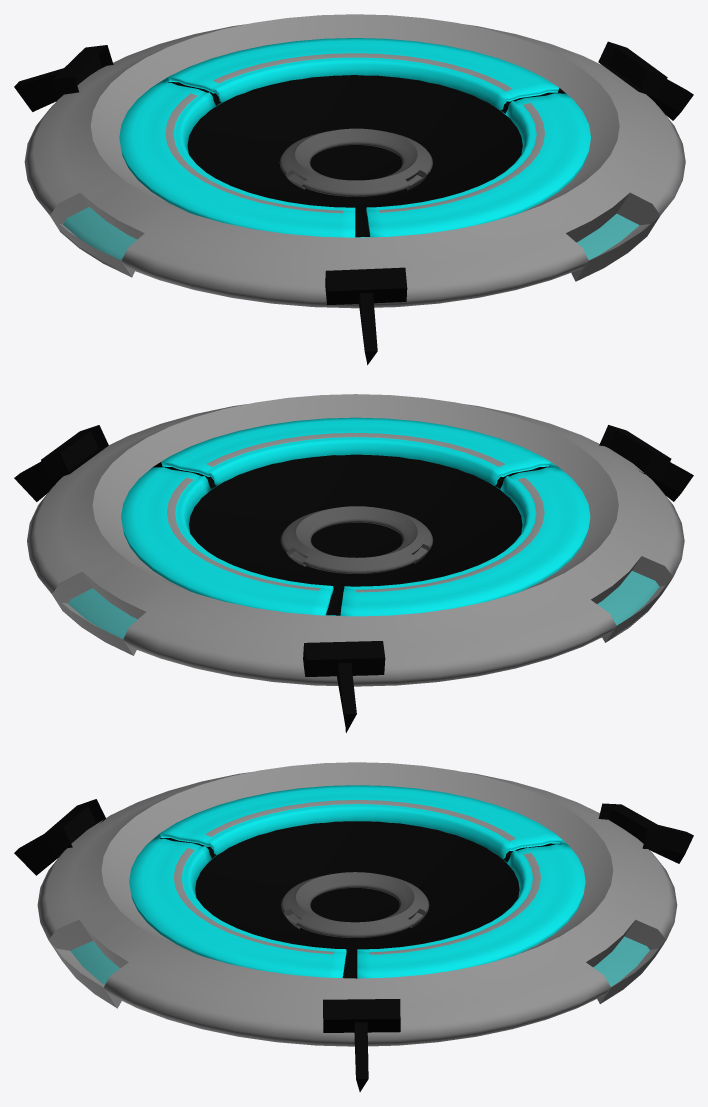
File: recibidordbolasdenergia (2).fbx
3 views of the same model, one above another, from view 1: azimuth 30°, elevation 25°; view 2: azimuth 150°, elevation 25°; view 3: azimuth 270°, elevation 25° (orthographic). The views are drawn at different scales.
Visible parts, largest first — view 1: Torus, Torus.001, Cylinder, Torus.002, Cube.004, Cube.001, Cube.003; view 2: Torus, Torus.001, Cylinder, Torus.002, Cube.003, Cube.001, Cube.004; view 3: Torus, Torus.001, Cylinder, Torus.002, Cube.001, Cube.004, Cube.003.
Boxes of the visible parts, bbox=[...] form: Torus: bbox=[24, 14, 685, 308]; Torus.001: bbox=[119, 38, 590, 237]; Cylinder: bbox=[187, 75, 522, 212]; Torus.002: bbox=[279, 128, 432, 196]; Cube.004: bbox=[325, 267, 407, 365]; Cube.001: bbox=[598, 41, 693, 120]; Cube.003: bbox=[14, 45, 113, 111]; Torus: bbox=[27, 394, 684, 686]; Torus.001: bbox=[121, 417, 590, 616]; Cylinder: bbox=[189, 454, 522, 590]; Torus.002: bbox=[280, 506, 433, 573]; Cube.003: bbox=[303, 641, 385, 732]; Cube.001: bbox=[14, 425, 108, 501]; Cube.004: bbox=[599, 425, 693, 501]; Torus: bbox=[37, 762, 677, 1046]; Torus.001: bbox=[129, 785, 585, 978]; Cylinder: bbox=[195, 821, 519, 953]; Torus.002: bbox=[281, 872, 429, 937]; Cube.001: bbox=[323, 999, 400, 1091]; Cube.004: bbox=[14, 799, 105, 875]; Cube.003: bbox=[598, 803, 693, 863].
Bounding box in the file's own units: 273 × 34.25 × 266.
